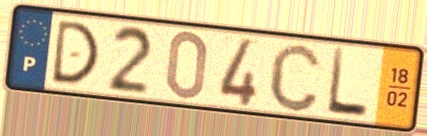0: (162, 29, 210, 102)
2: (105, 24, 156, 97)
4: (217, 35, 261, 109)
C: (266, 41, 324, 115)
D: (48, 18, 102, 86)
L: (324, 45, 371, 121)
